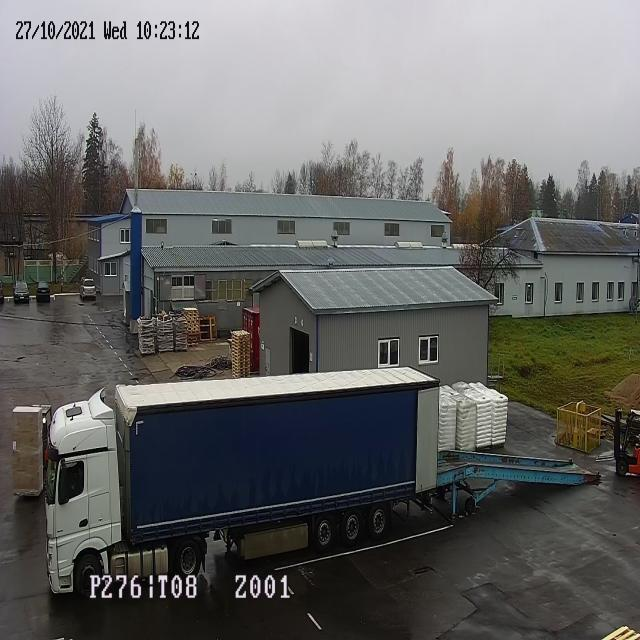car: (9, 276, 30, 307), (78, 277, 97, 305), (36, 280, 50, 303)
forklift: (612, 405, 640, 478), (31, 401, 51, 491)
truck: (44, 387, 122, 599)
